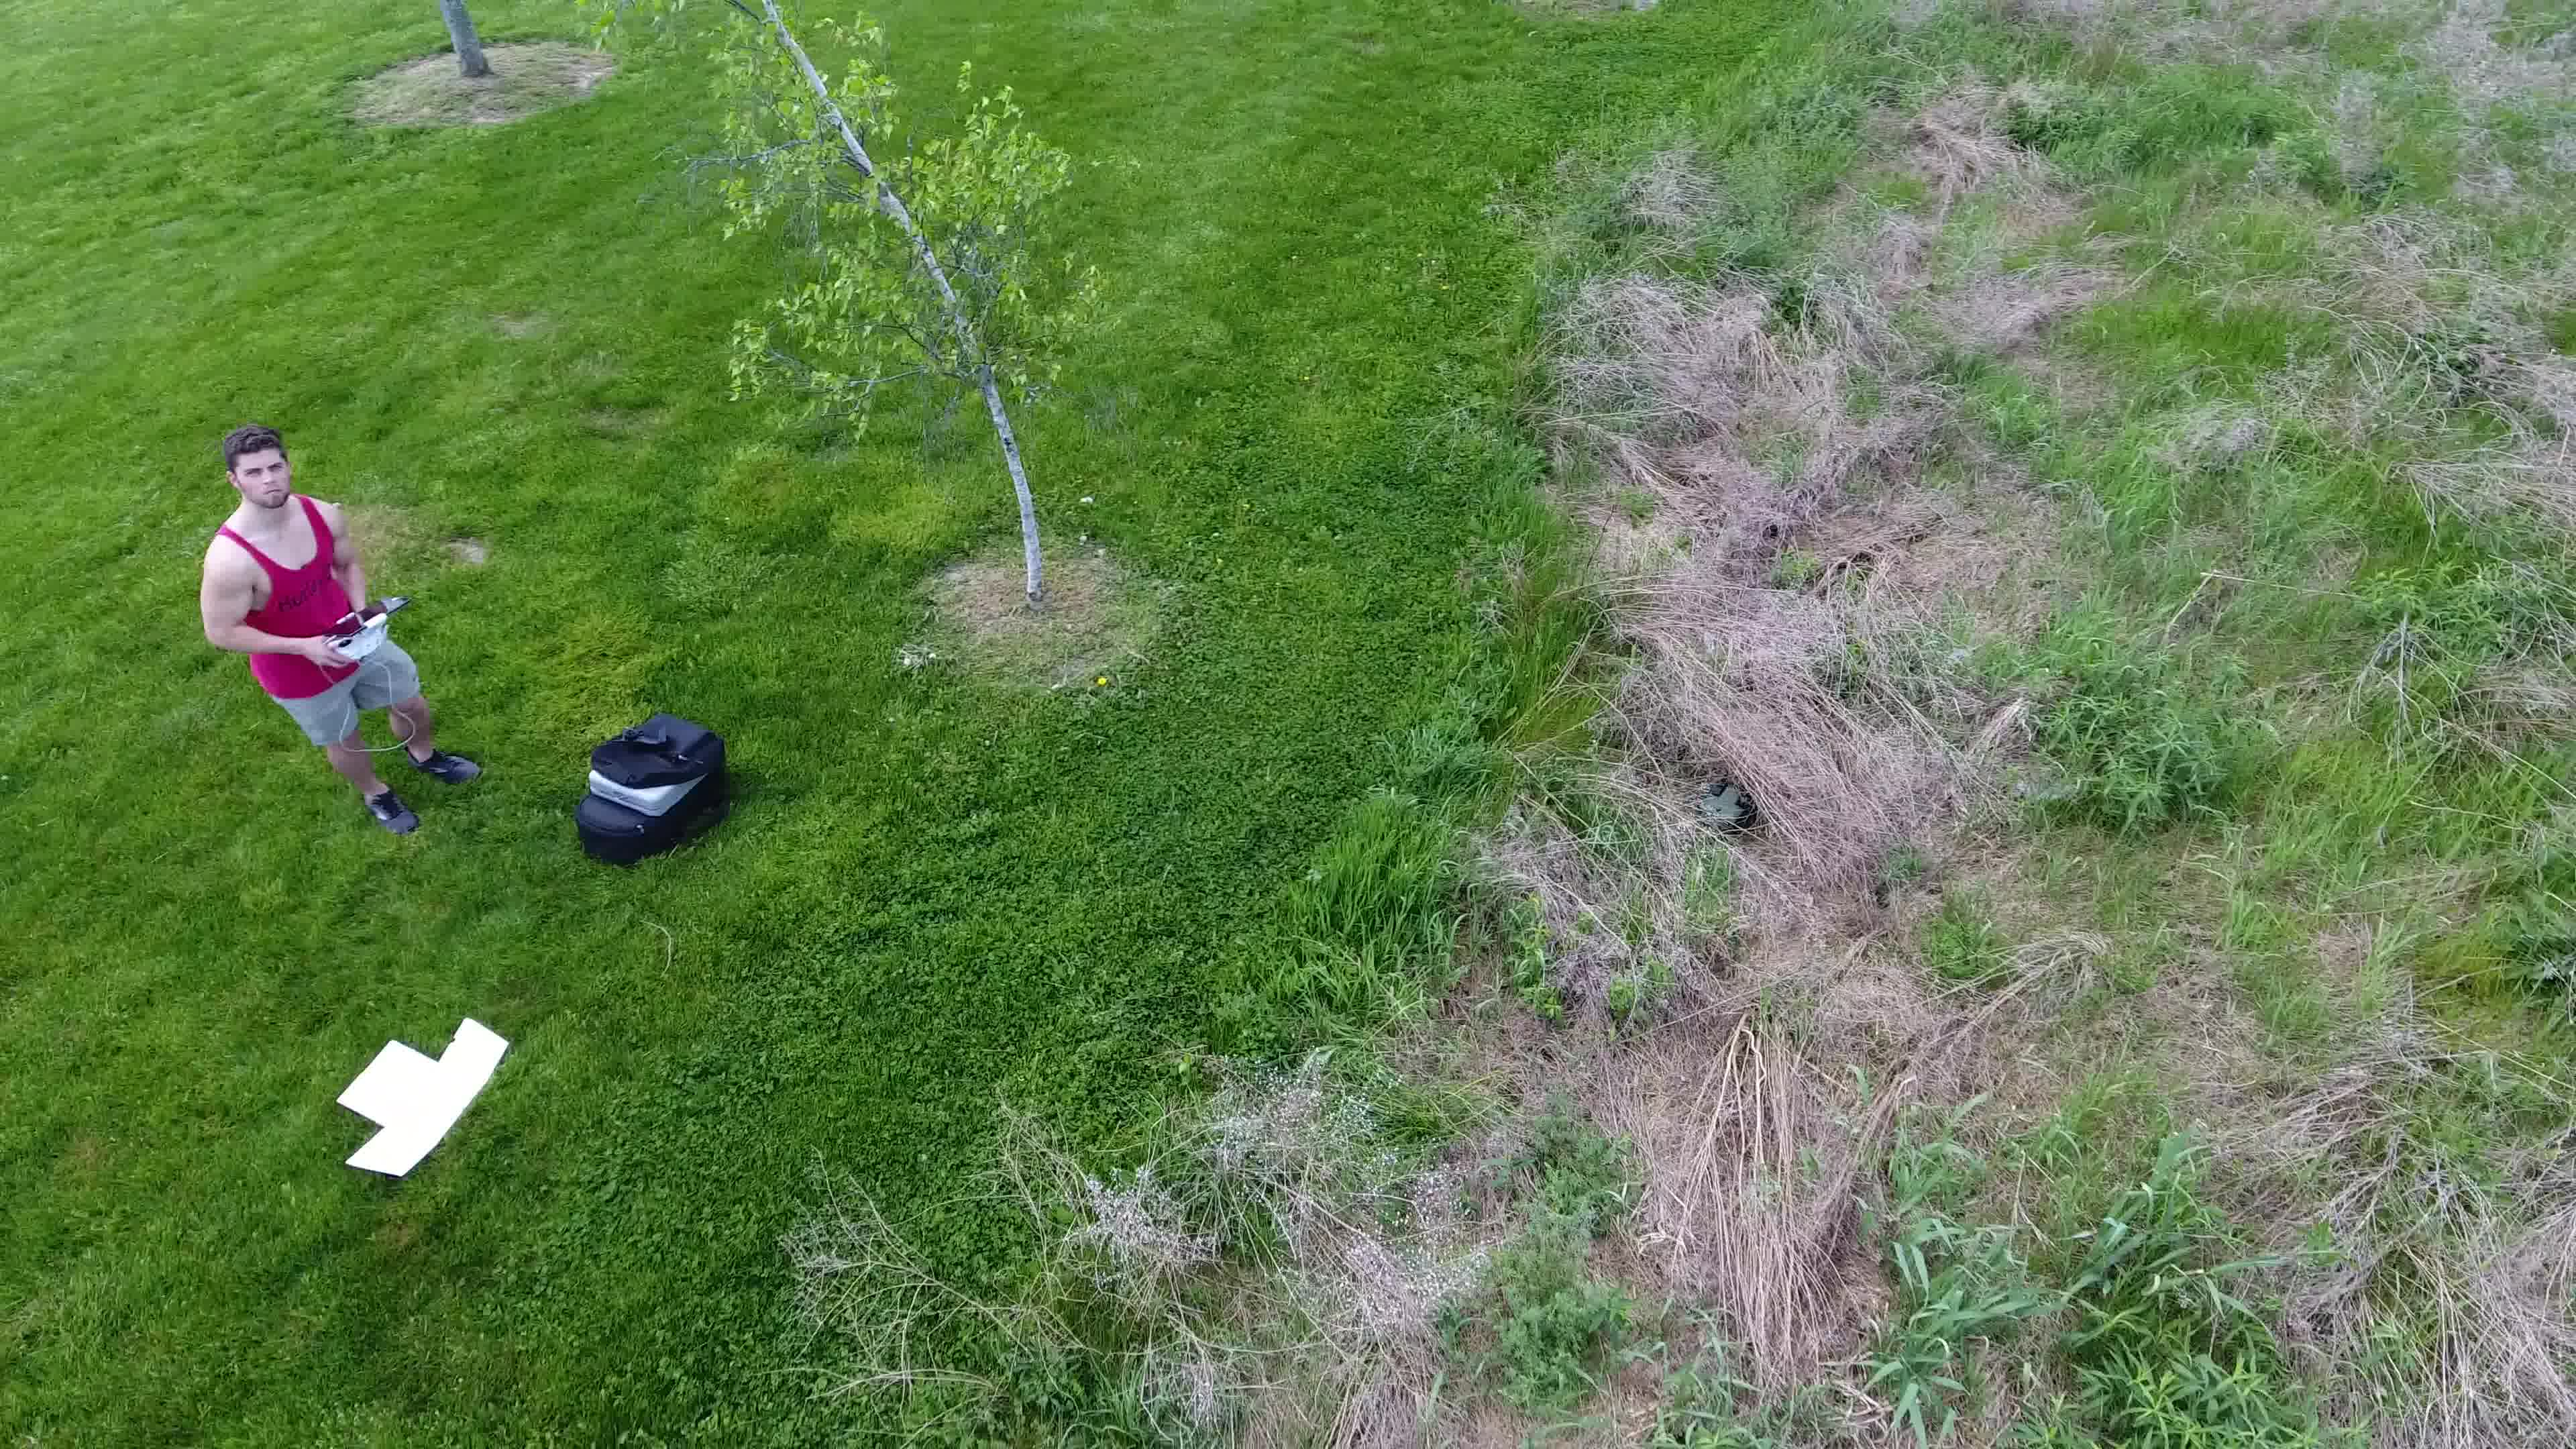transporter9: (1693, 778, 1757, 832)
